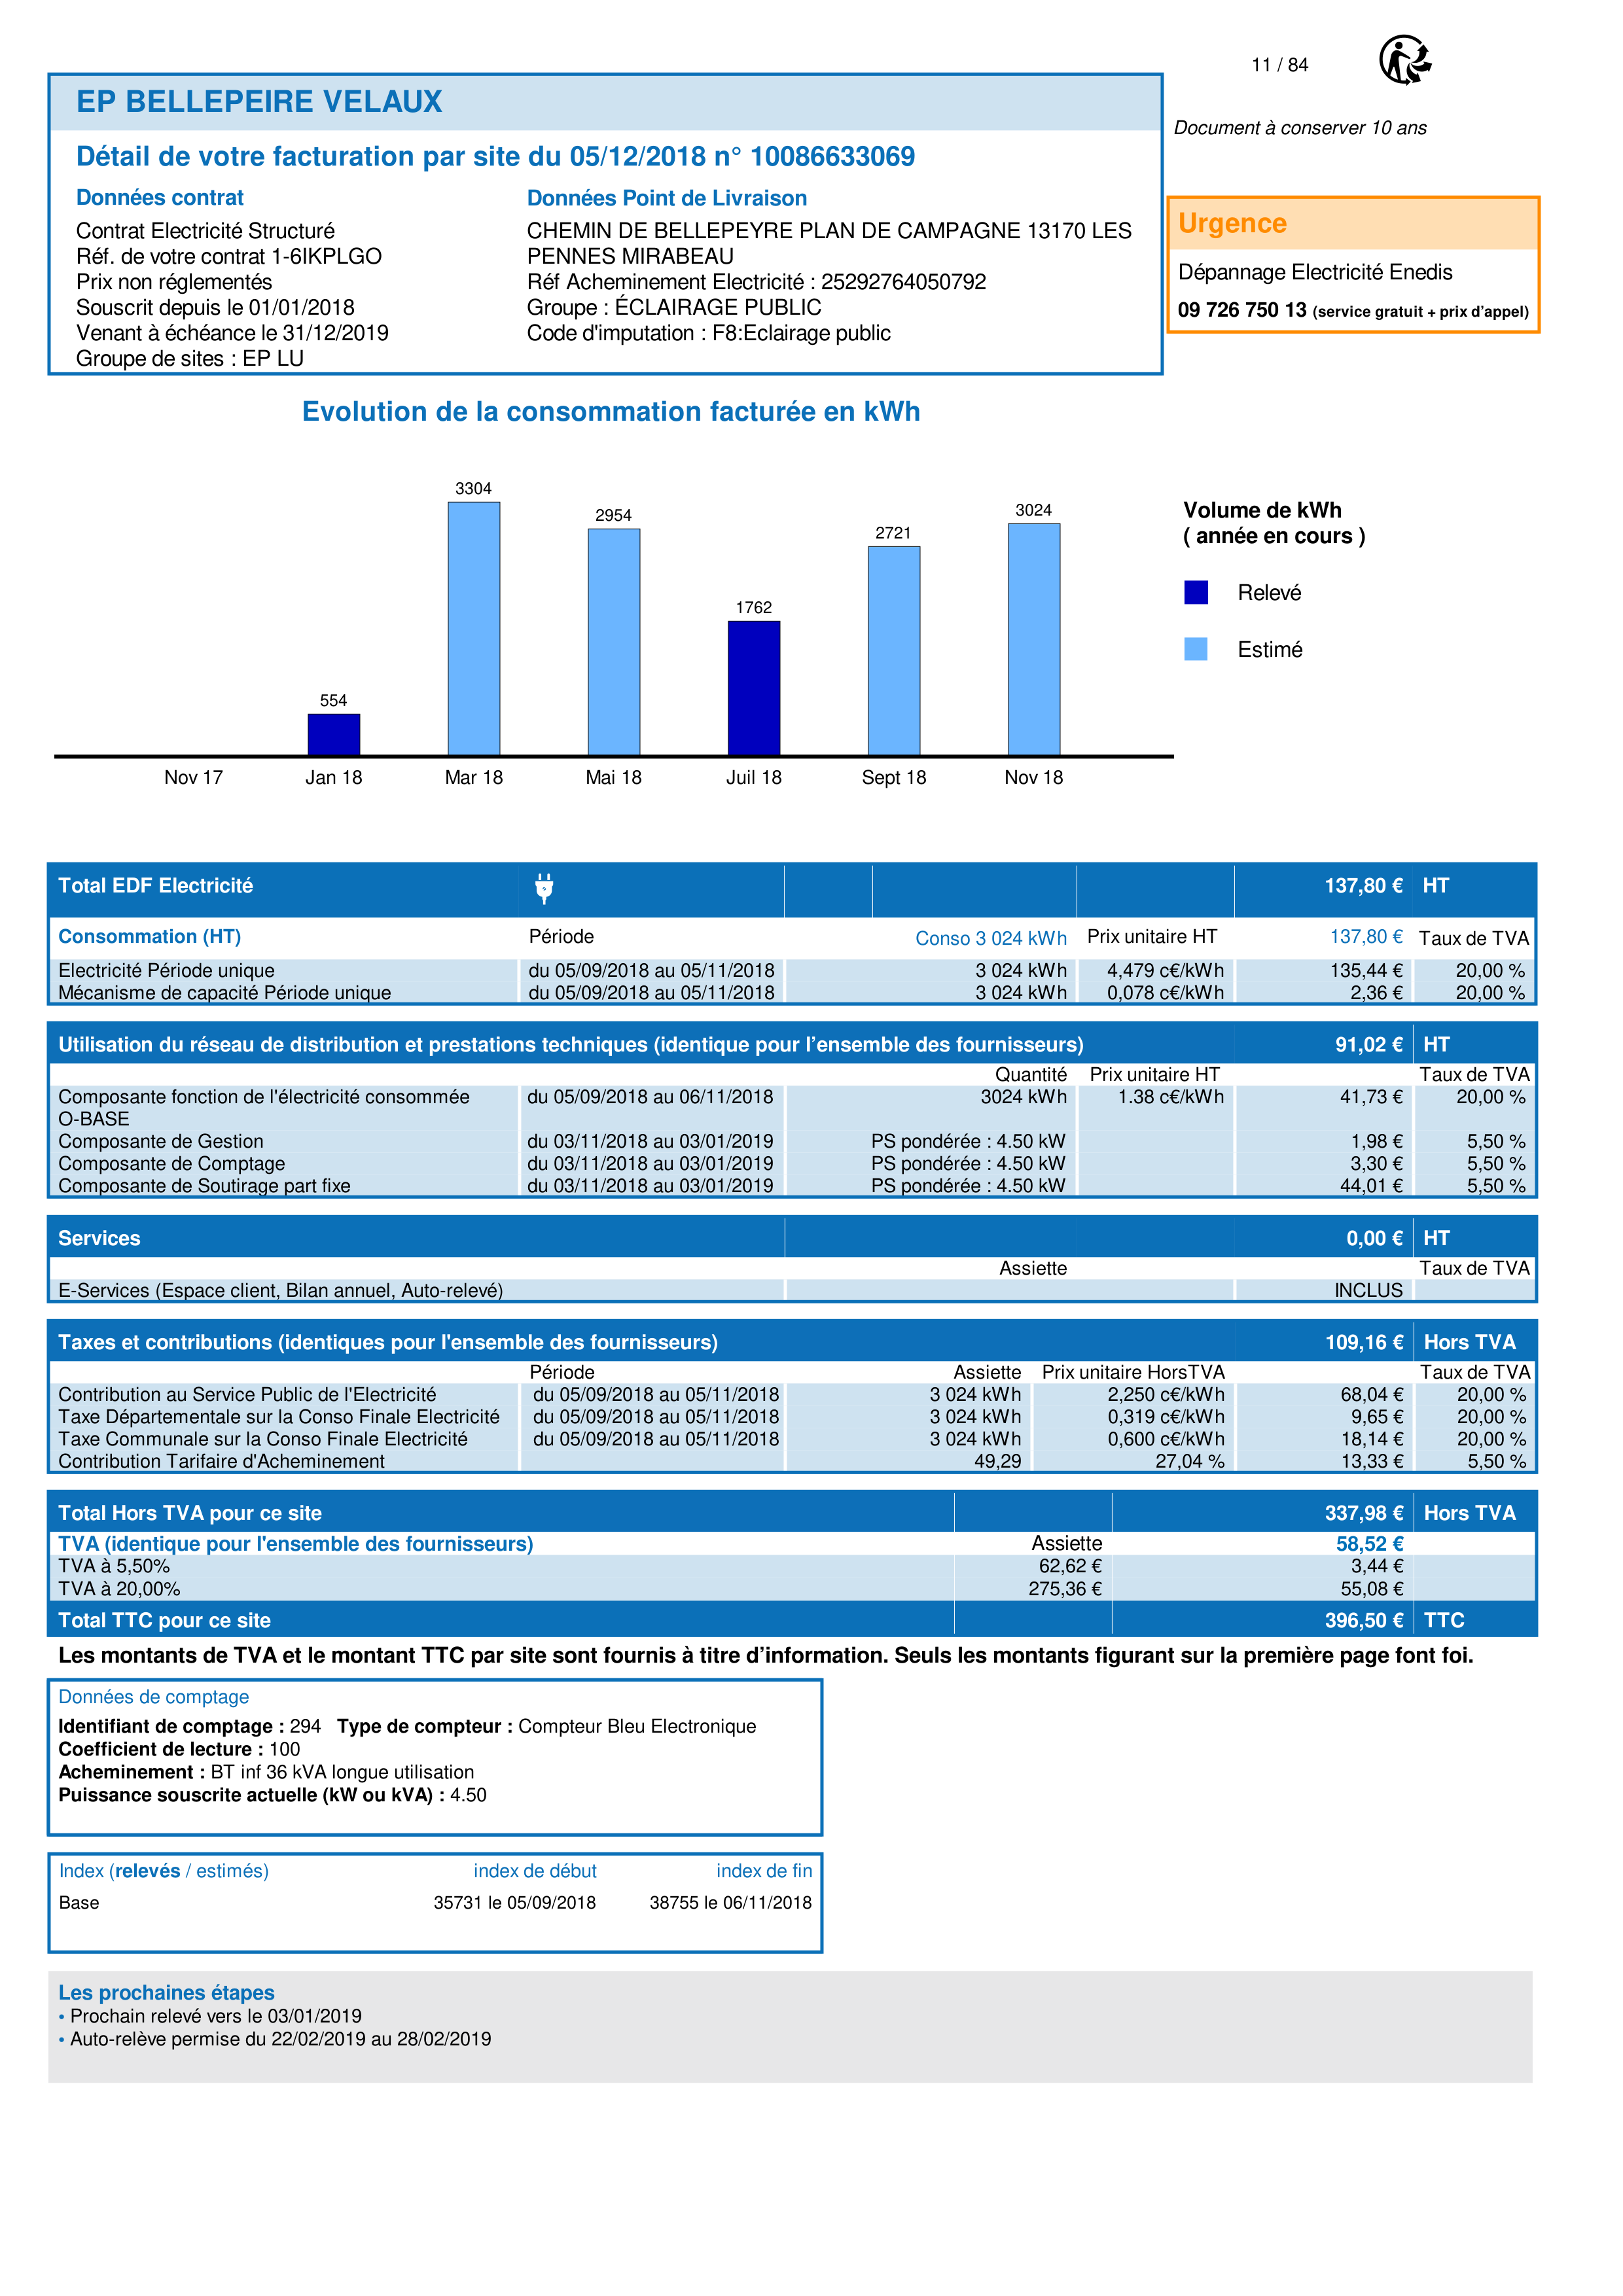area: (48, 1853, 821, 1952)
type_indicator: (48, 1853, 278, 1889)
